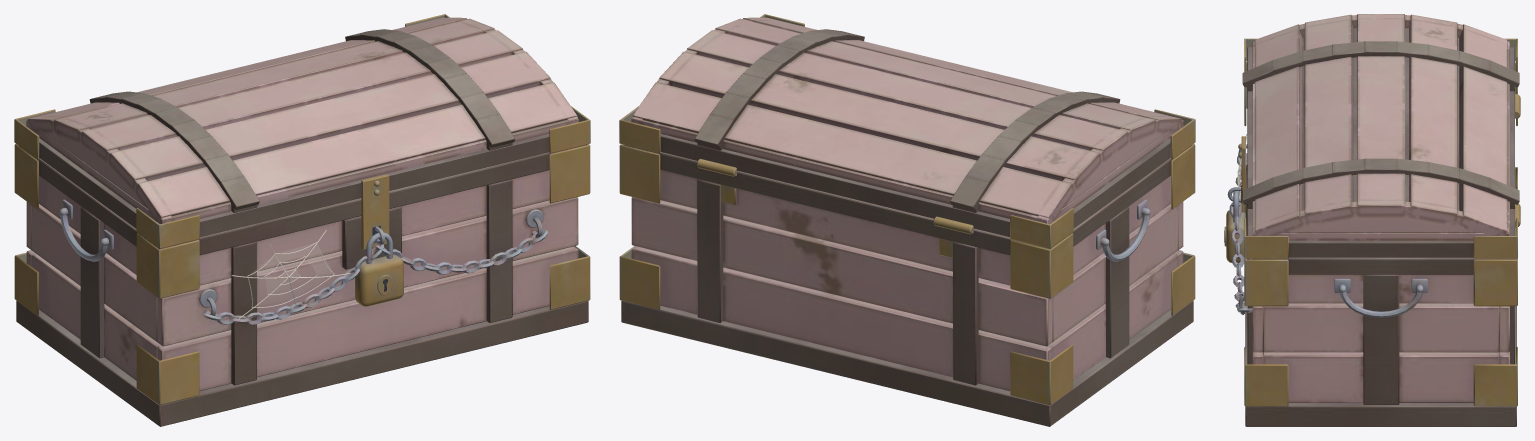
The model's file is cofre_candado.glb.
3 views of the same model, side by side, from view 1: azimuth 30°, elevation 25°; view 2: azimuth 150°, elevation 25°; view 3: azimuth 270°, elevation 25° (orthographic). The views are drawn at different scales.
Parts seen in each view (by area): view 1: padlocked-chest_body; view 2: padlocked-chest_body; view 3: padlocked-chest_body.
Part boxes in pixels (x1,y1,x2,y2): padlocked-chest_body: (14,14,590,426); padlocked-chest_body: (619,14,1195,426); padlocked-chest_body: (1224,14,1520,426).
Bounding box in the file's own units: 0.939 × 0.4792 × 0.5758.
Materials: 4 (2 with a texture image).
